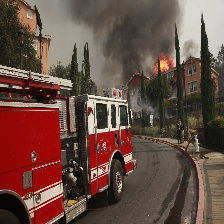fire: (151, 55, 174, 72)
smoke: (88, 1, 173, 76)
